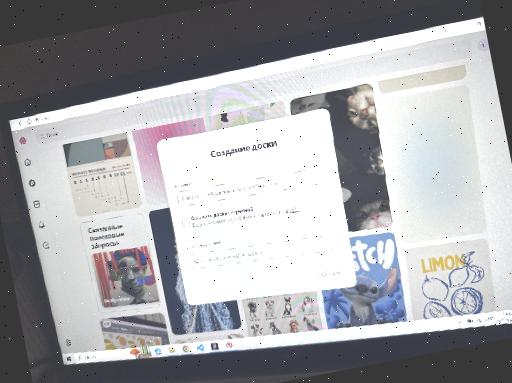pinterest: (11, 38, 512, 383)
